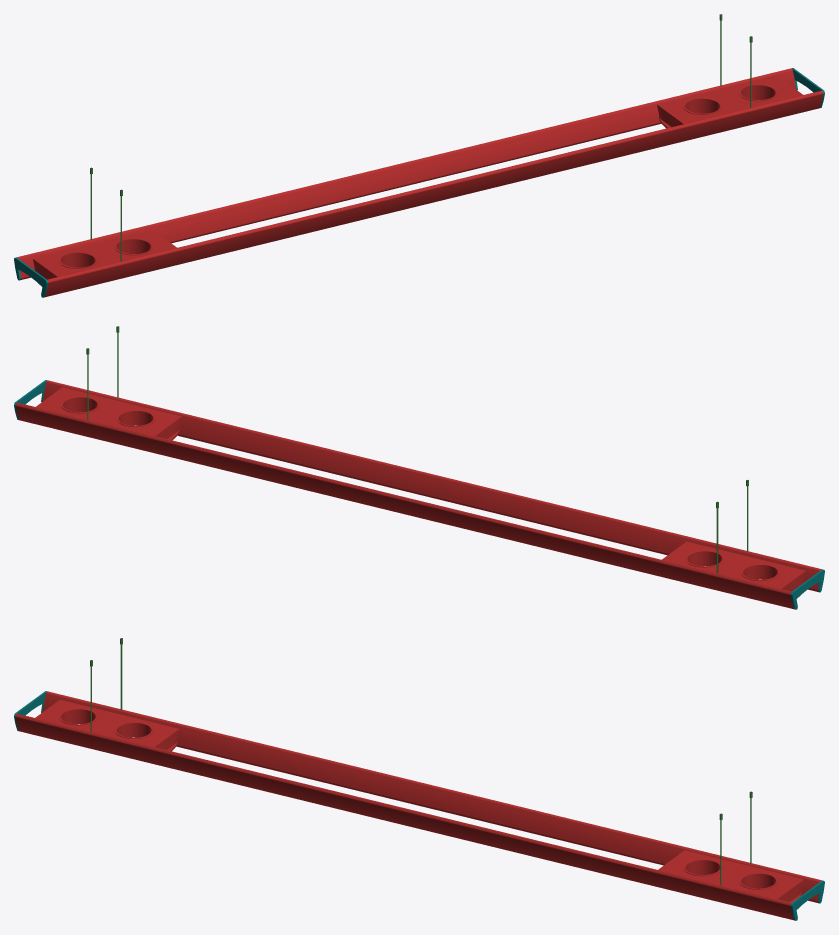
Rendered from SM_Long_Lamp_01.fbx.
3 renders of one model, top to bottom at view 1: azimuth 30°, elevation 25°; view 2: azimuth 150°, elevation 25°; view 3: azimuth 330°, elevation 25°, orthographic.
Parts seen in each view (by area): view 1: SM_Long_Lamp_01; view 2: SM_Long_Lamp_01; view 3: SM_Long_Lamp_01.
Boxes of the visible parts, x1,y1,x2,y2 form: SM_Long_Lamp_01: (14,14,824,297); SM_Long_Lamp_01: (14,326,824,609); SM_Long_Lamp_01: (14,638,824,920).
Size of the model in its own units: 325 by 36.28 by 23.54.
